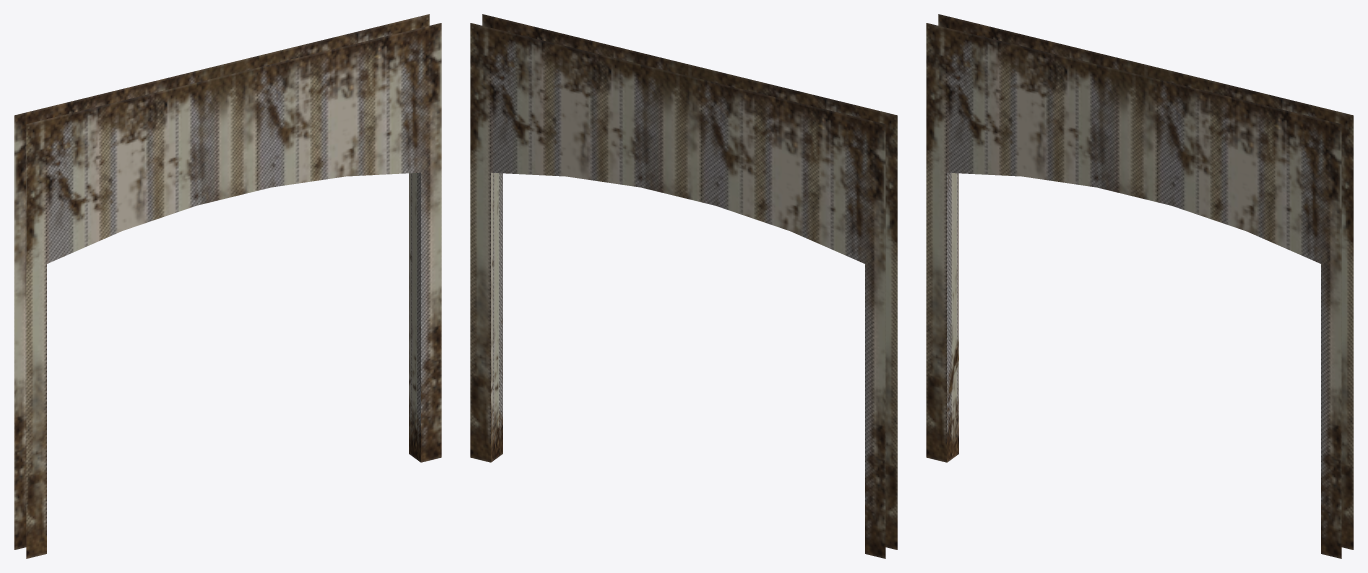
Rendered from wall_white_archway_3.obj.
3 renders of one model, left to right at view 1: azimuth 30°, elevation 25°; view 2: azimuth 150°, elevation 25°; view 3: azimuth 330°, elevation 25°, orthographic.
Parts seen in each view (by area): view 1: Wall_Archway_Wide_Cap; view 2: Wall_Archway_Wide_Cap; view 3: Wall_Archway_Wide_Cap.
Part boxes in pixels (bbox=[...]): Wall_Archway_Wide_Cap: bbox=[14, 14, 441, 558]; Wall_Archway_Wide_Cap: bbox=[470, 14, 897, 558]; Wall_Archway_Wide_Cap: bbox=[926, 14, 1353, 558].
Size of the model in its own units: 3 by 3 by 0.15.
1 material, 1 textured.
